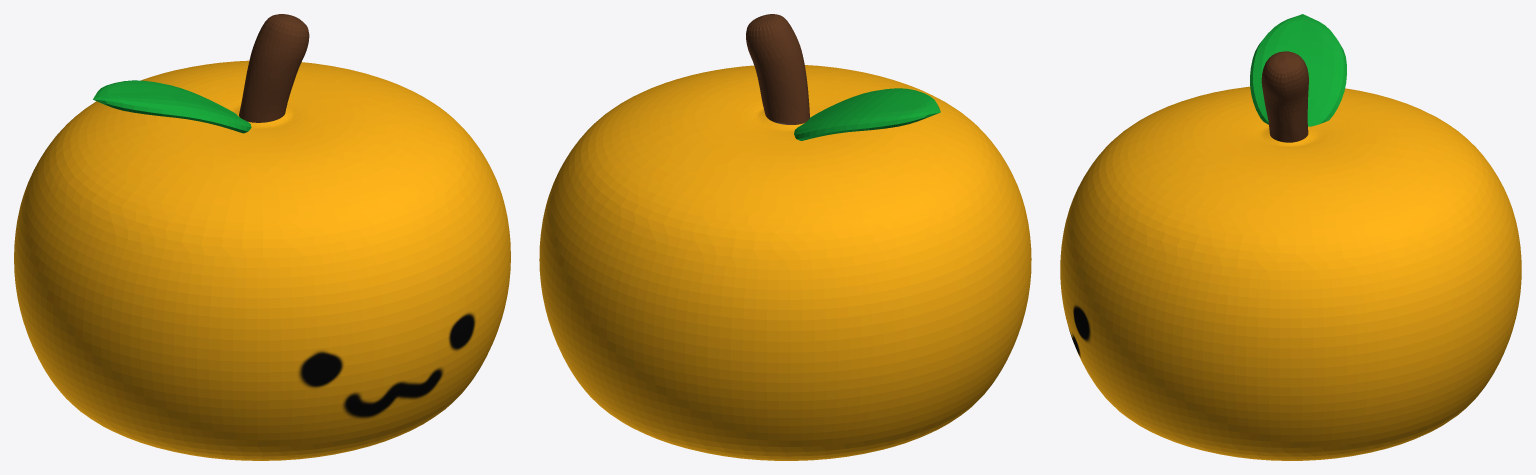
File: stop mikann.fbx
The picture shows the model from 3 angles, left to right: view 1: azimuth 30°, elevation 25°; view 2: azimuth 150°, elevation 25°; view 3: azimuth 270°, elevation 25°; orthographic projection. The views are drawn at different scales.
Parts seen in each view (by area): view 1: 球, 平面; view 2: 球, 平面; view 3: 球, 平面.
Part boxes in pixels (left/top/right/bottom): 球: left=14, top=14, right=510, bottom=460; 平面: left=93, top=80, right=251, bottom=133; 球: left=539, top=14, right=1031, bottom=460; 平面: left=794, top=88, right=940, bottom=140; 球: left=1060, top=51, right=1521, bottom=460; 平面: left=1250, top=14, right=1346, bottom=126.
Bounding box in the file's own units: 1387 × 1167 × 1370.
